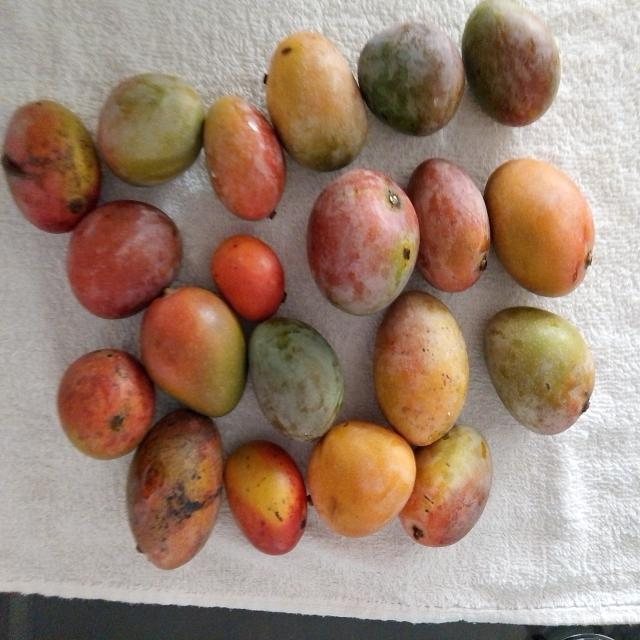mango: (127, 410, 223, 569), (374, 291, 468, 445), (266, 32, 367, 171), (484, 307, 594, 434), (140, 287, 246, 416), (2, 100, 101, 232), (409, 152, 497, 298), (247, 321, 349, 442), (97, 77, 204, 186), (399, 425, 492, 546), (224, 441, 306, 554)
